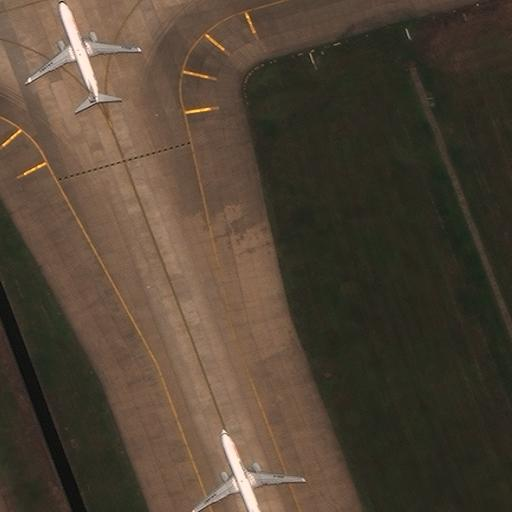Large Civil Transport: (188, 430, 305, 511)
Medium Civil Transport: (25, 0, 140, 105)
